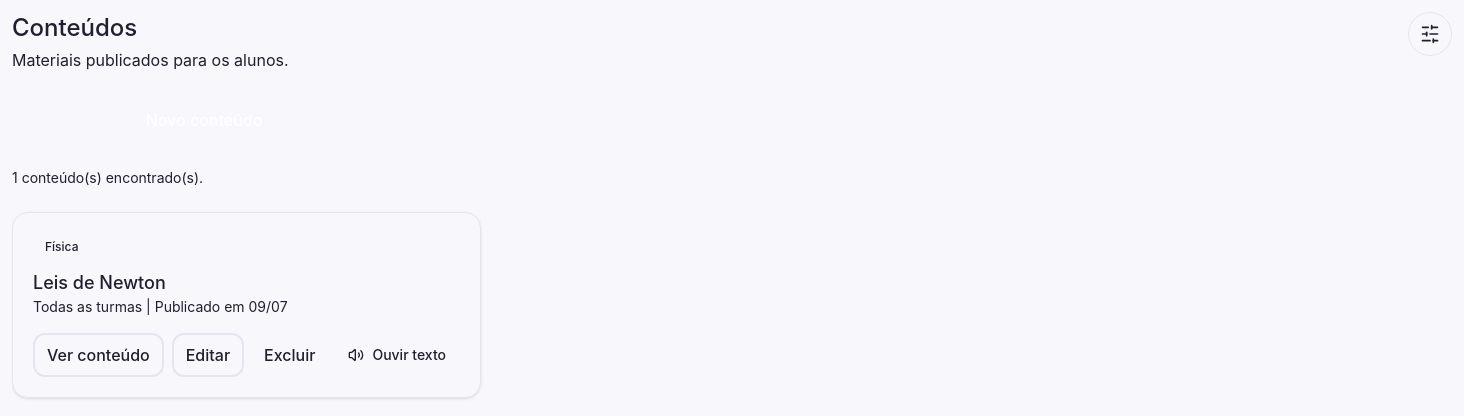
Test: posts e conteúdos › exclui post com confirmação e atualiza lista
The image size is (1464, 416).
Expected: the heading "Leis de Newton" is shown, [33,272,166,293]
Click the button "Excluir" at (290, 355), box [252,333,327,377]
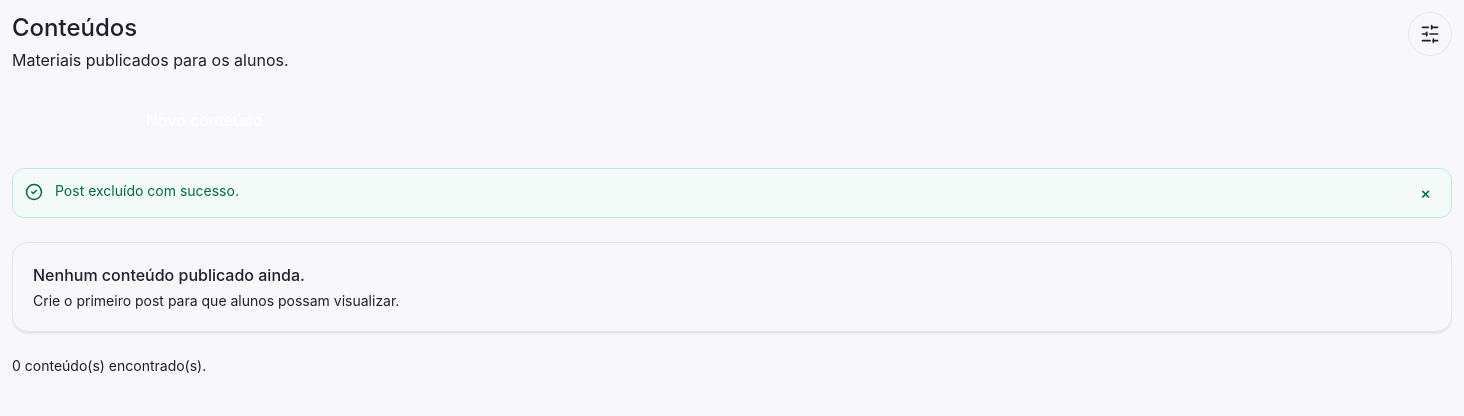
Result: the text "Post excluído com sucesso." is shown at [55,182,239,199]
Result: the heading "Leis de Newton" is gone
